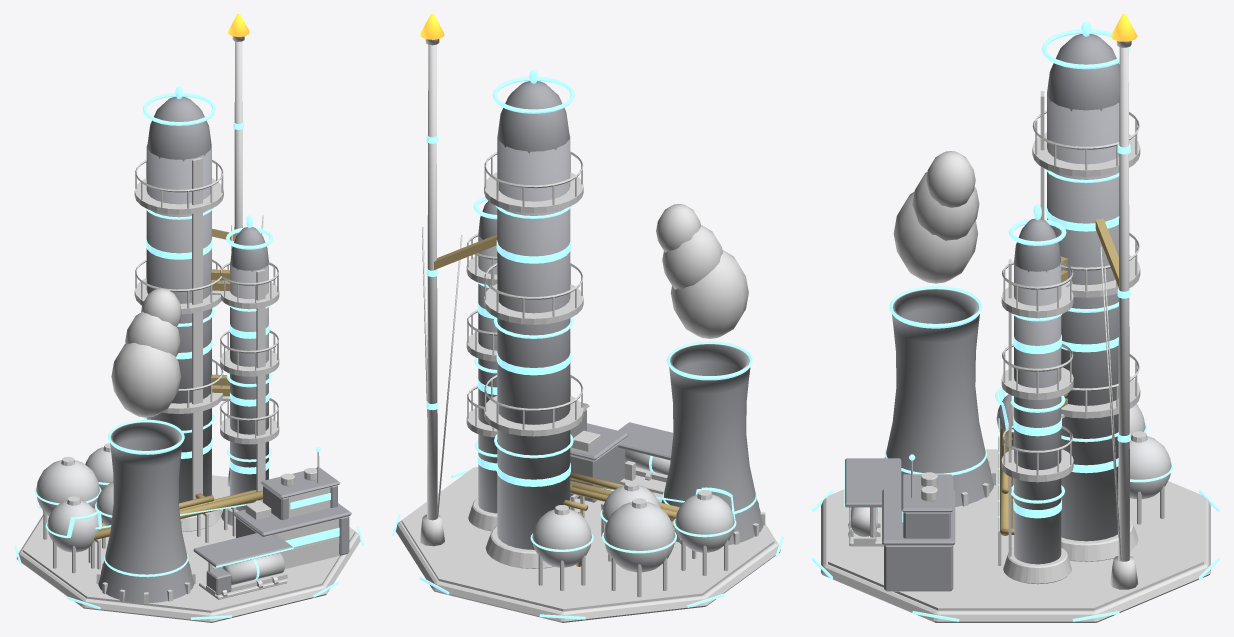
The model's file is sb_raffinerie_t3.glb.
The picture shows the model from 3 angles, left to right: view 1: azimuth 30°, elevation 25°; view 2: azimuth 150°, elevation 25°; view 3: azimuth 270°, elevation 25°; orthographic projection. The views are drawn at different scales.
Visible parts, largest first — view 1: SM_RF_COL_SHAFT, SM_RF_COOL, SM_RF_PLINTH_TOP, SM_RF_STEAM, SM_RF_COL2_SHAFT, SM_RF_GLOW, SM_RF_BLOCK, SM_RF_PLINTH, SM_RF_COL_LADDER, SM_RF_COL_PLATFORMS, SM_RF_COL2_PLATFORMS, SM_RF_TANK_A (+18 smaller); view 2: SM_RF_COL_SHAFT, SM_RF_PLINTH_TOP, SM_RF_COOL, SM_RF_STEAM, SM_RF_GLOW, SM_RF_FLARE, SM_RF_PLINTH, SM_RF_COL_PLATFORMS, SM_RF_TANK_A, SM_RF_COL2_SHAFT, SM_RF_BLOCK, SM_RF_TANK_B (+13 smaller); view 3: SM_RF_COL_SHAFT, SM_RF_PLINTH_TOP, SM_RF_COOL, SM_RF_COL2_SHAFT, SM_RF_STEAM, SM_RF_BLOCK, SM_RF_FLARE, SM_RF_GLOW, SM_RF_PLINTH, SM_RF_COL_PLATFORMS, SM_RF_COL2_PLATFORMS, SM_RF3_GLOW (+11 smaller).
Boxes of the visible parts, box(x1,y1,x2,y2) form: SM_RF_COL_SHAFT: box(146, 96, 211, 502); SM_RF_COOL: box(98, 422, 194, 603); SM_RF_PLINTH_TOP: box(22, 475, 355, 612); SM_RF_STEAM: box(111, 288, 181, 417); SM_RF_COL2_SHAFT: box(230, 227, 268, 510); SM_RF_GLOW: box(14, 86, 363, 619); SM_RF_BLOCK: box(233, 467, 351, 555); SM_RF_PLINTH: box(17, 514, 360, 622); SM_RF_COL_LADDER: box(192, 157, 202, 516); SM_RF_COL_PLATFORMS: box(134, 178, 223, 413); SM_RF_COL2_PLATFORMS: box(220, 282, 279, 444); SM_RF_TANK_A: box(36, 460, 99, 516); SM_RF_COL_SHAFT: box(497, 81, 570, 549); SM_RF_PLINTH_TOP: box(401, 467, 774, 611); SM_RF_COOL: box(661, 344, 763, 544); SM_RF_STEAM: box(656, 204, 748, 338); SM_RF_GLOW: box(392, 69, 783, 619); SM_RF_FLARE: box(419, 44, 444, 546); SM_RF_PLINTH: box(396, 520, 780, 622); SM_RF_COL_PLATFORMS: box(484, 172, 583, 436); SM_RF_TANK_A: box(603, 502, 675, 572); SM_RF_COL2_SHAFT: box(478, 201, 497, 513); SM_RF_BLOCK: box(570, 402, 628, 502); SM_RF_TANK_B: box(532, 509, 591, 567); SM_RF_COL_SHAFT: box(1047, 34, 1119, 541); SM_RF_PLINTH_TOP: box(828, 449, 1203, 610); SM_RF_COOL: box(884, 289, 993, 506); SM_RF_COL2_SHAFT: box(1014, 218, 1061, 564); SM_RF_STEAM: box(893, 151, 979, 283); SM_RF_BLOCK: box(882, 474, 955, 590); SM_RF_FLARE: box(1110, 47, 1138, 589); SM_RF_GLOW: box(812, 21, 1219, 621); SM_RF_PLINTH: box(821, 497, 1210, 622); SM_RF_COL_PLATFORMS: box(1032, 132, 1140, 418); SM_RF_COL2_PLATFORMS: box(1001, 285, 1073, 482); SM_RF3_GLOW: box(1009, 29, 1130, 503).
Bounding box in the file's own units: 37.7 × 59.37 × 37.7.
